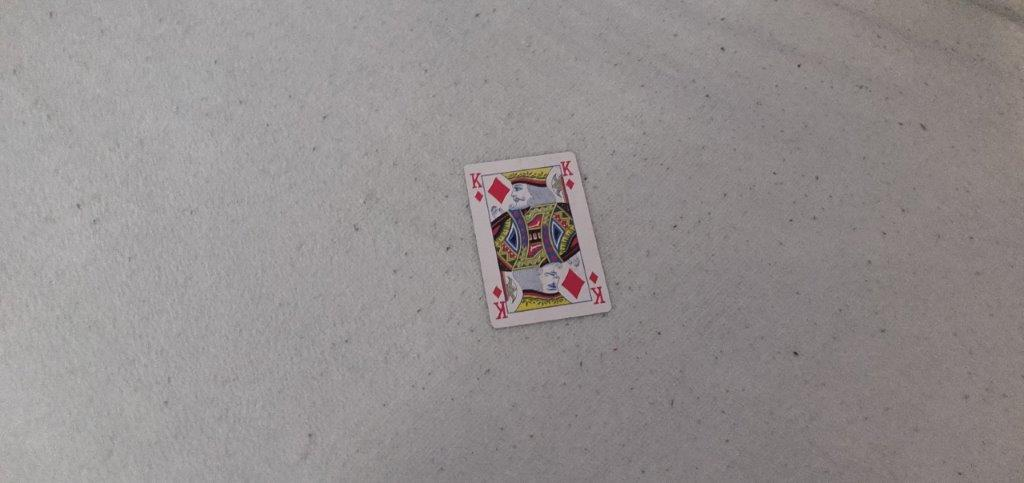KD: (467, 169, 487, 207), (559, 158, 578, 193)
